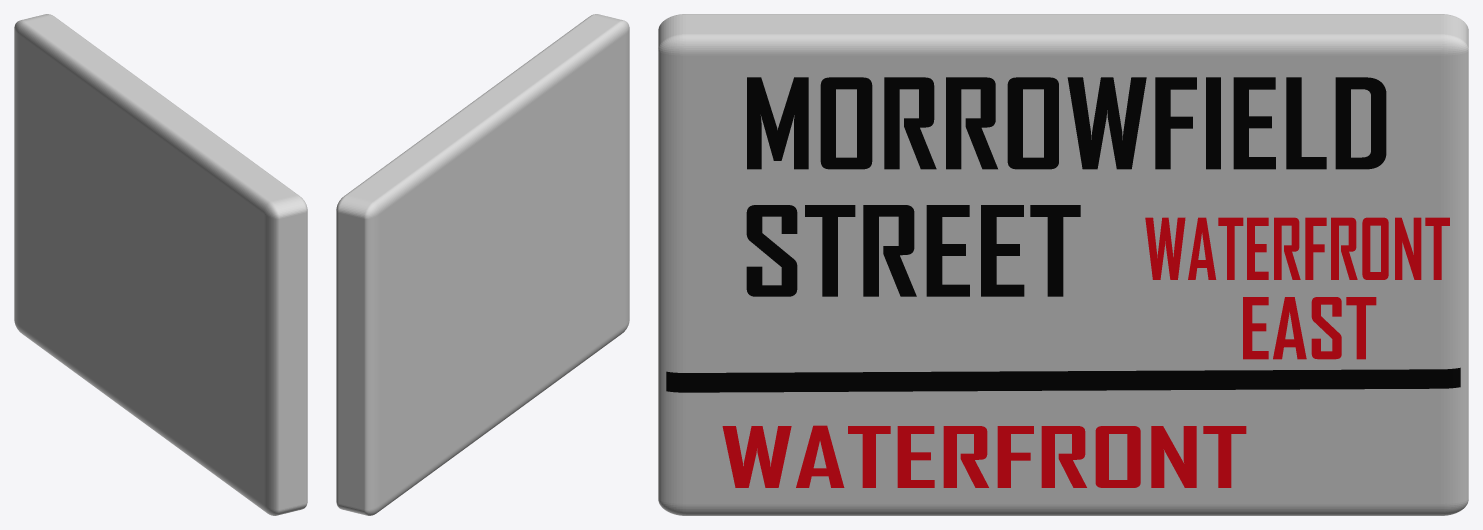
File: uk_styled_street_sign_47.fbx
3 renders of one model, left to right at view 1: azimuth 30°, elevation 25°; view 2: azimuth 150°, elevation 25°; view 3: azimuth 270°, elevation 25°, orthographic. The views are drawn at different scales.
Visible parts, largest first — view 1: Cube; view 2: Cube; view 3: Cube, Text, Text.002, Text.001, Text.003, Text.004.
Part boxes in pixels (x1,y1,x2,y2): Cube: [14, 14, 307, 515]; Cube: [336, 14, 629, 515]; Cube: [658, 14, 1468, 515]; Text: [747, 77, 1386, 169]; Text.002: [722, 425, 1246, 487]; Text.001: [746, 205, 1080, 296]; Text.003: [1145, 217, 1449, 279]; Text.004: [1243, 297, 1376, 359].
Size of the model in its own units: 1.63 by 11.91 by 18.18.
